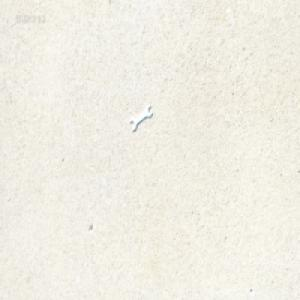Wrench: (129, 104, 151, 132)
